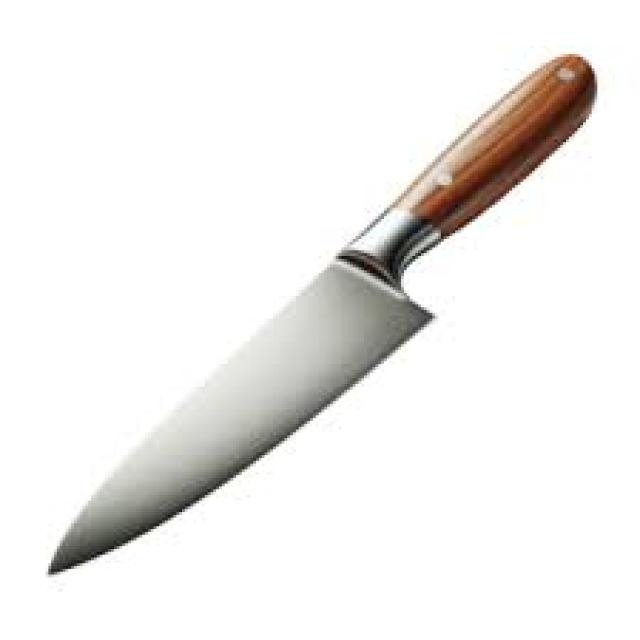Knife: (45, 48, 598, 574)
